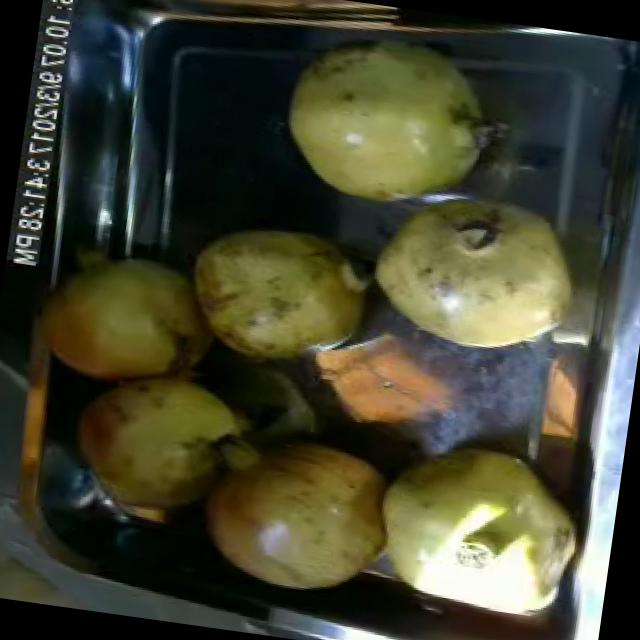fruit: (347, 416, 610, 640), (344, 163, 600, 378), (264, 21, 513, 230), (175, 412, 413, 612), (16, 233, 238, 404), (172, 211, 386, 387), (52, 358, 244, 540)
